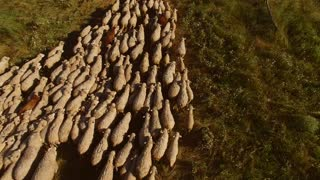sheep: (31, 146, 59, 180), (109, 112, 132, 151), (91, 129, 111, 166), (136, 132, 151, 178), (48, 106, 64, 149), (20, 62, 46, 88), (77, 115, 93, 157), (161, 97, 178, 129), (132, 82, 146, 113), (168, 131, 181, 164), (163, 58, 176, 91), (44, 48, 63, 66), (90, 54, 102, 78), (185, 104, 195, 132), (179, 77, 189, 105), (151, 41, 162, 66), (114, 64, 124, 91), (151, 21, 161, 44), (140, 50, 149, 73), (177, 37, 186, 56), (122, 7, 129, 29)
